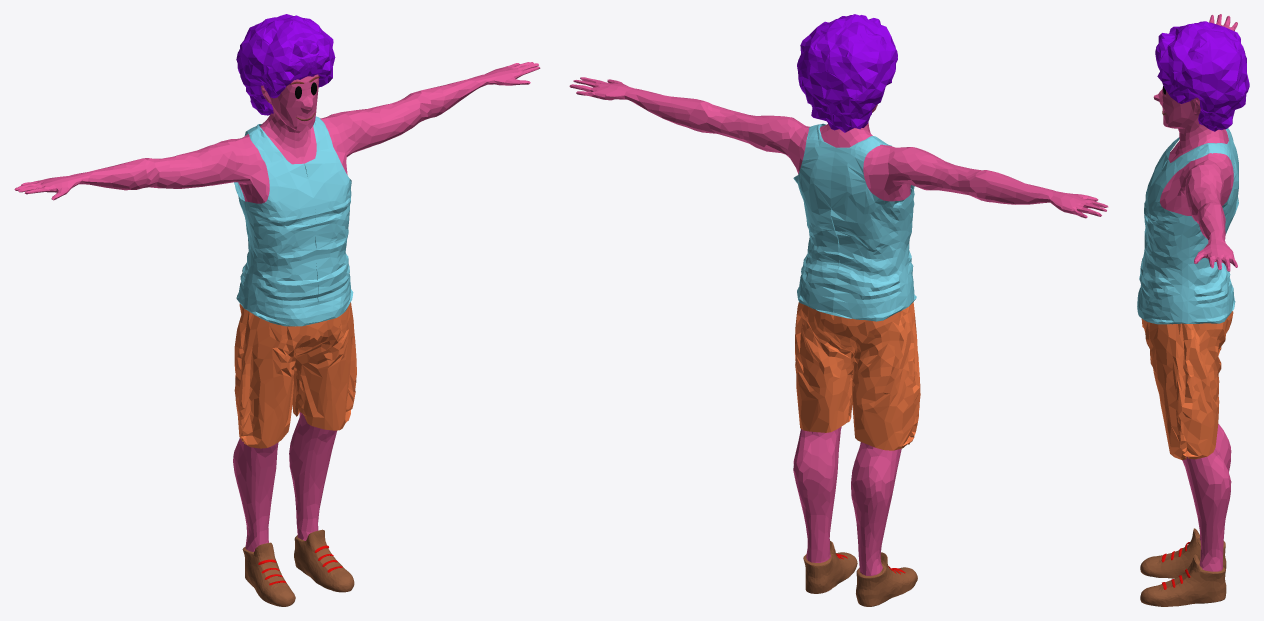
The picture shows the model from 3 angles, left to right: view 1: azimuth 30°, elevation 25°; view 2: azimuth 150°, elevation 25°; view 3: azimuth 270°, elevation 25°; orthographic projection. The views are drawn at different scales.
Visible parts, largest first — view 1: KSDA; view 2: KSDA; view 3: KSDA.
Boxes of the visible parts, x1=… form: KSDA: x1=14, y1=14, x2=540, y2=606; KSDA: x1=569, y1=14, x2=1108, y2=606; KSDA: x1=1137, y1=14, x2=1249, y2=606.
Size of the model in its own units: 190 by 195 by 35.41.
